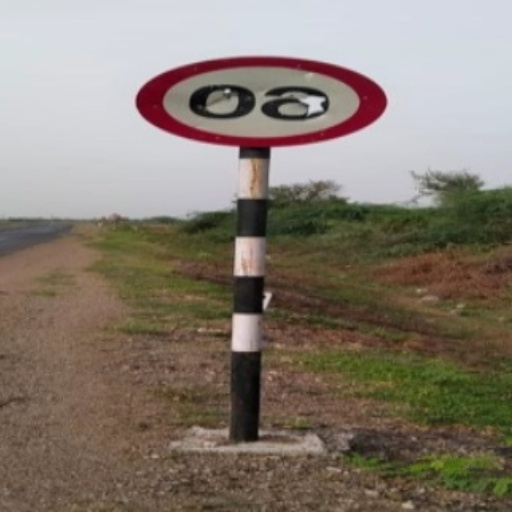Speed limit: (139, 44, 425, 213)
